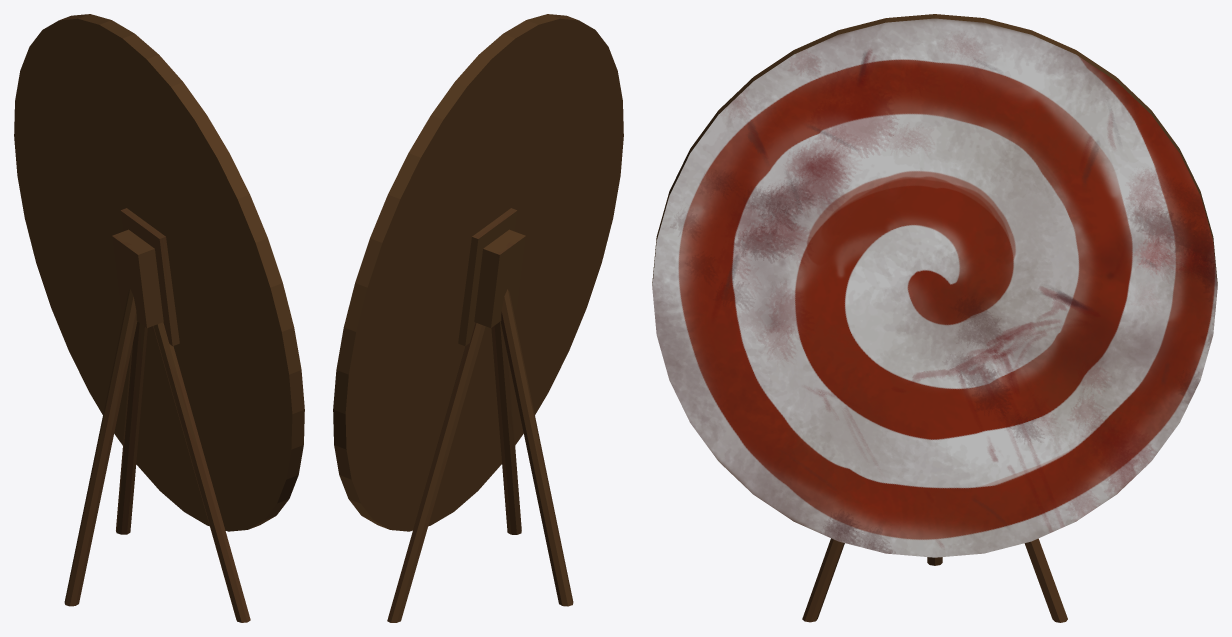
The model's file is knifethrowing_board.fbx.
The picture shows the model from 3 angles, left to right: view 1: azimuth 30°, elevation 25°; view 2: azimuth 150°, elevation 25°; view 3: azimuth 270°, elevation 25°; orthographic projection. The views are drawn at different scales.
Parts seen in each view (by area): view 1: throwing_board; view 2: throwing_board; view 3: throwing_board.
Part boxes in pixels (<box>): throwing_board: <box>14,14,304,622</box>; throwing_board: <box>333,14,623,622</box>; throwing_board: <box>652,14,1217,622</box>.
Size of the model in its own units: 62.78 by 253 by 225.
Materials: 1 (1 with a texture image).
